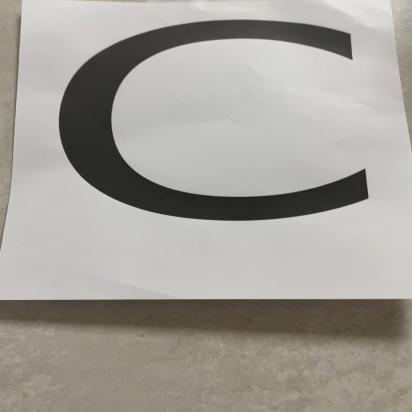seat: (39, 0, 412, 295)
